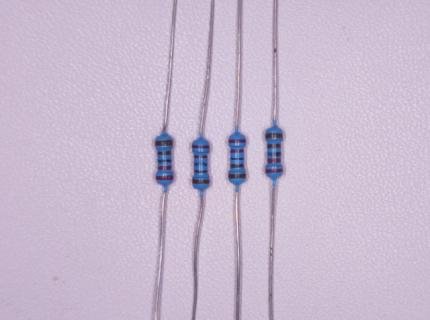Black band: (267, 153, 281, 156), (230, 157, 244, 160), (194, 163, 207, 166), (158, 160, 172, 162)
Brown band: (228, 173, 246, 179), (265, 133, 283, 138), (155, 141, 172, 146), (192, 179, 209, 184), (267, 144, 281, 148), (158, 151, 171, 155), (231, 164, 244, 168), (194, 170, 207, 173)
Red band: (265, 169, 283, 173), (267, 158, 281, 163), (156, 176, 173, 180), (229, 139, 246, 143), (230, 149, 244, 153), (158, 166, 171, 170), (192, 145, 209, 148), (194, 156, 207, 158)
